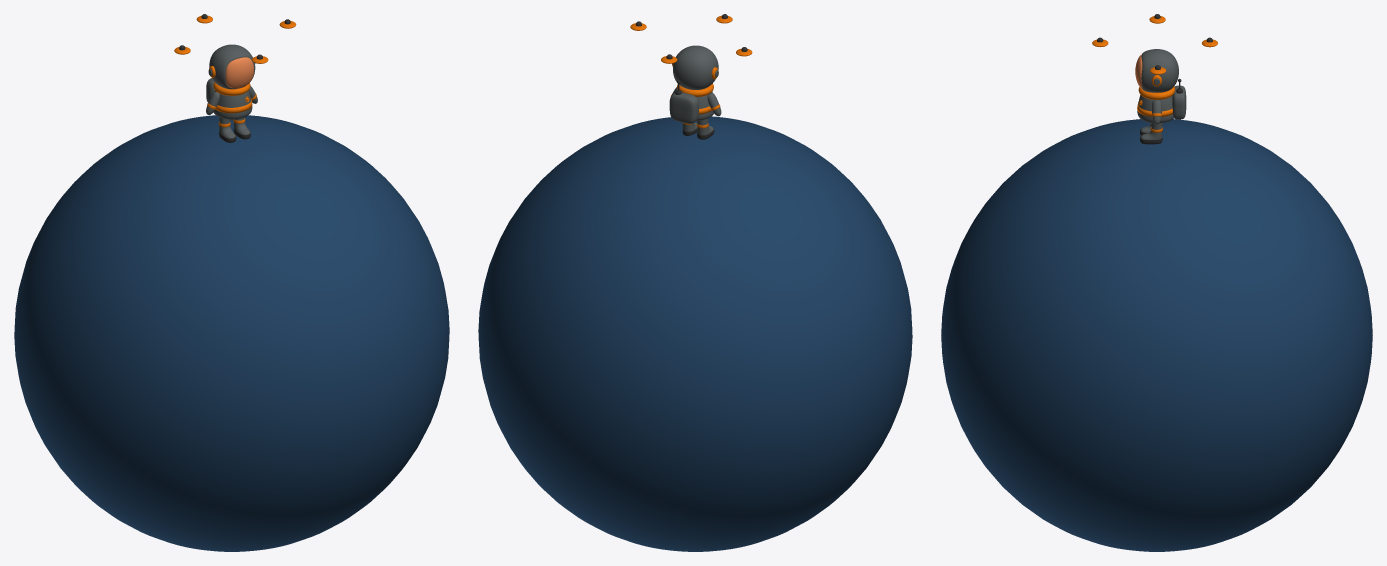
3 renders of one model, left to right at view 1: azimuth 30°, elevation 25°; view 2: azimuth 150°, elevation 25°; view 3: azimuth 270°, elevation 25°, orthographic.
Parts seen in each view (by area): view 1: Sphere.001_16, Cube_0, Cube.001_1, suit_3; view 2: Sphere.001_16, Cube_0, Cube.007_8; view 3: Sphere.001_16, Cube_0.
Part boxes in pixels (left/top/right/bottom): Sphere.001_16: left=14, top=115, right=449, bottom=551; Cube_0: left=209, top=44, right=255, bottom=89; Cube.001_1: left=225, top=57, right=253, bottom=88; suit_3: left=213, top=90, right=252, bottom=119; Sphere.001_16: left=478, top=116, right=912, bottom=551; Cube_0: left=673, top=45, right=718, bottom=89; Cube.007_8: left=669, top=92, right=698, bottom=123; Sphere.001_16: left=941, top=119, right=1372, bottom=551; Cube_0: left=1141, top=49, right=1178, bottom=92.
Size of the model in its own units: 13.89 by 17.56 by 13.89.
